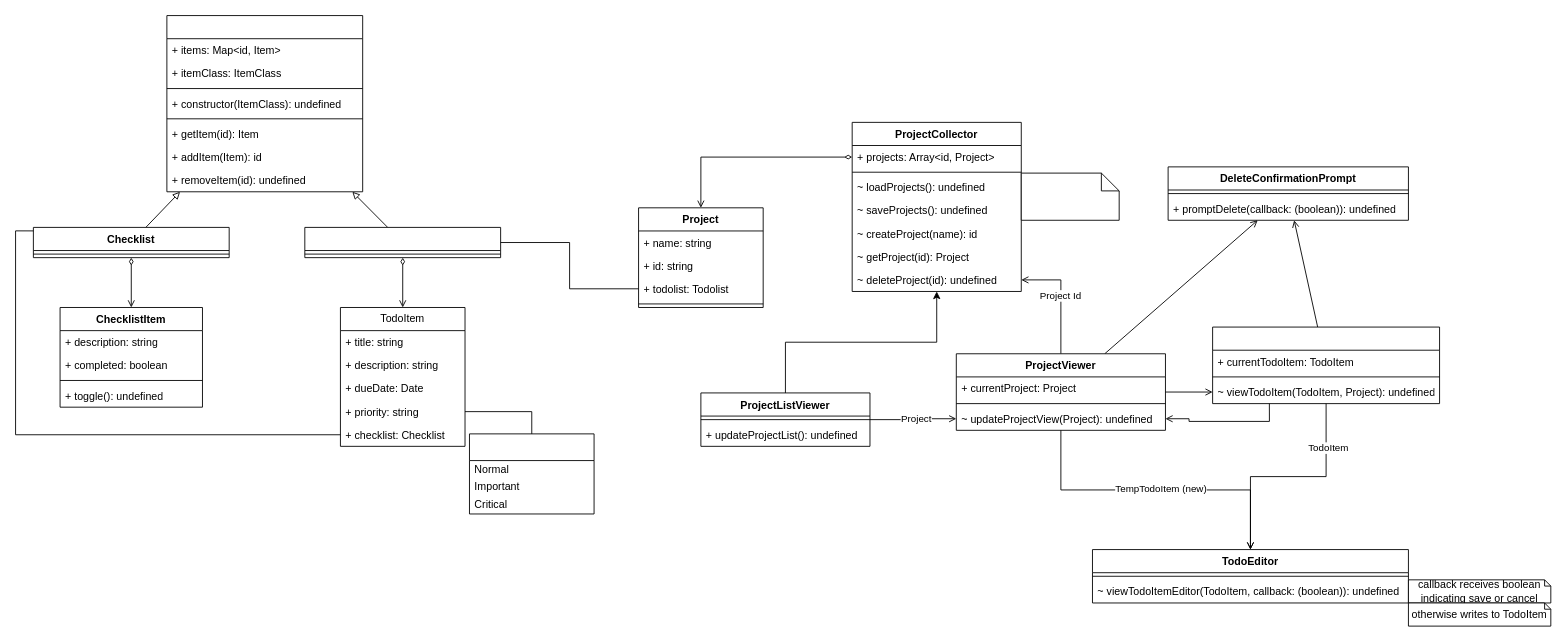
Image size: 1566x642. Some labels were removed from this diagram. Here are the shapes that lost their labels. From the top down, the box of each, then its label:
(166, 15, 363, 192): ItemList
(1020, 172, 1119, 220): Read from localStorage
(304, 227, 501, 258): Todolist
(1212, 326, 1440, 404): TodoViewer
(469, 433, 594, 514): Priority
